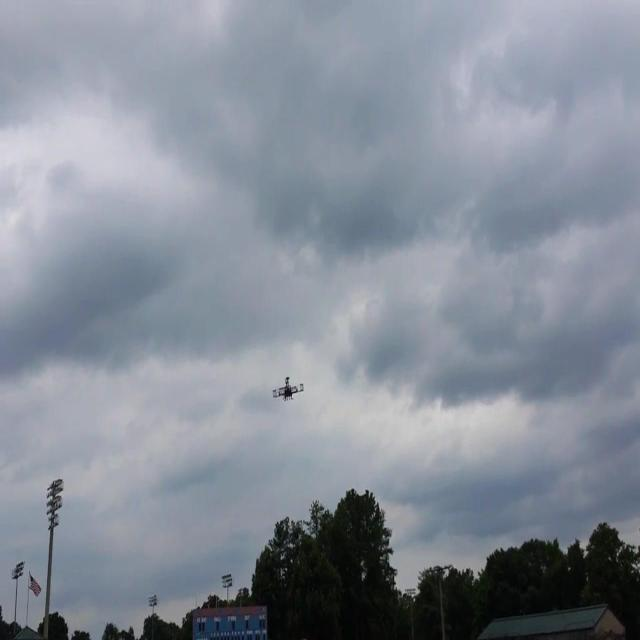drone: (272, 375, 304, 403)
